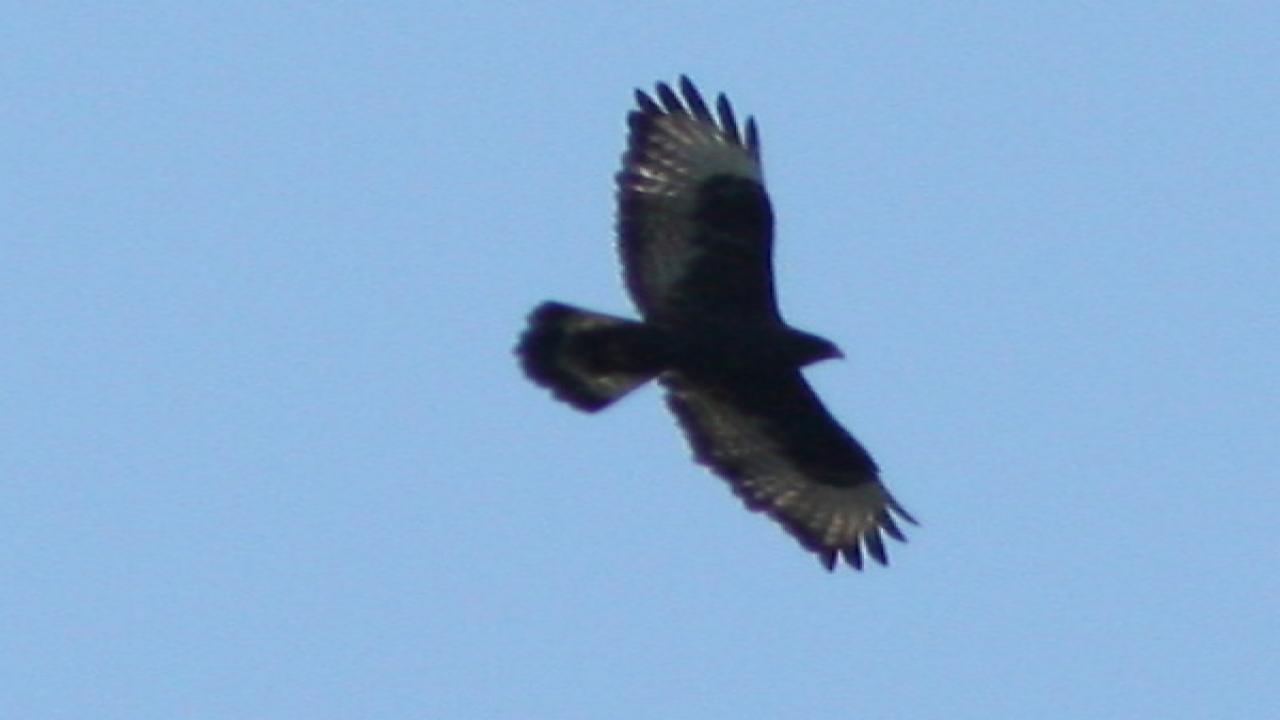Bird: (504, 65, 934, 581)
